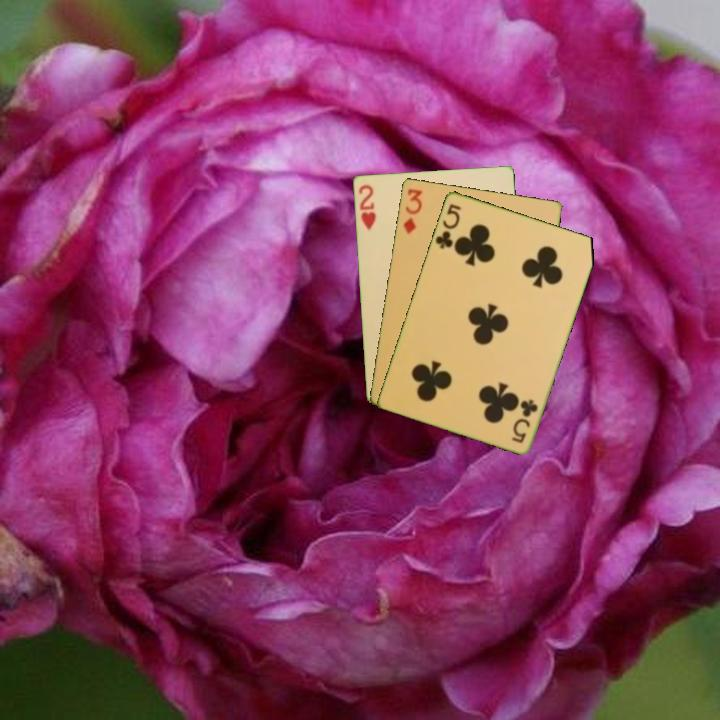2h: (355, 181, 378, 233)
3d: (399, 185, 425, 237)
5c: (431, 200, 464, 251), (508, 395, 541, 445)
